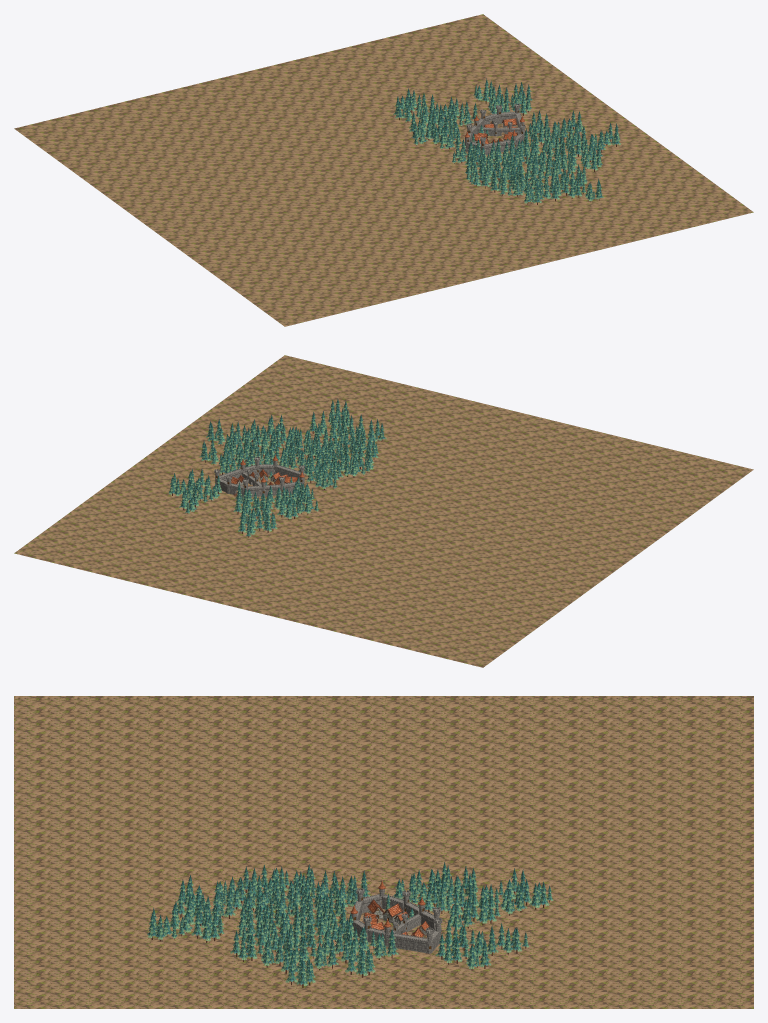
The model's file is Village.fbx.
3 renders of one model, top to bottom at view 1: azimuth 30°, elevation 25°; view 2: azimuth 150°, elevation 25°; view 3: azimuth 270°, elevation 25°, orthographic. The views are drawn at different scales.
Visible parts, largest first — view 1: Plane.001; view 2: Plane.001; view 3: Plane.001, StoneWall.005, Cylinder.042, Cylinder.066, Cylinder.035, Cylinder.057, Cylinder.062, Cylinder.061.
Boxes of the visible parts, x1=… form: Plane.001: x1=14, y1=14, x2=753, y2=326; Plane.001: x1=14, y1=355, x2=753, y2=667; Plane.001: x1=14, y1=696, x2=753, y2=1008; StoneWall.005: x1=386, y1=932, x2=428, y2=953; Cylinder.042: x1=191, y1=912, x2=224, y2=942; Cylinder.066: x1=470, y1=895, x2=500, y2=925; Cylinder.035: x1=230, y1=930, x2=263, y2=961; Cylinder.057: x1=495, y1=923, x2=529, y2=954; Cylinder.062: x1=523, y1=879, x2=553, y2=909; Cylinder.061: x1=435, y1=933, x2=468, y2=964.
Bounding box in the file's own units: 200000 × 10938 × 200000.
